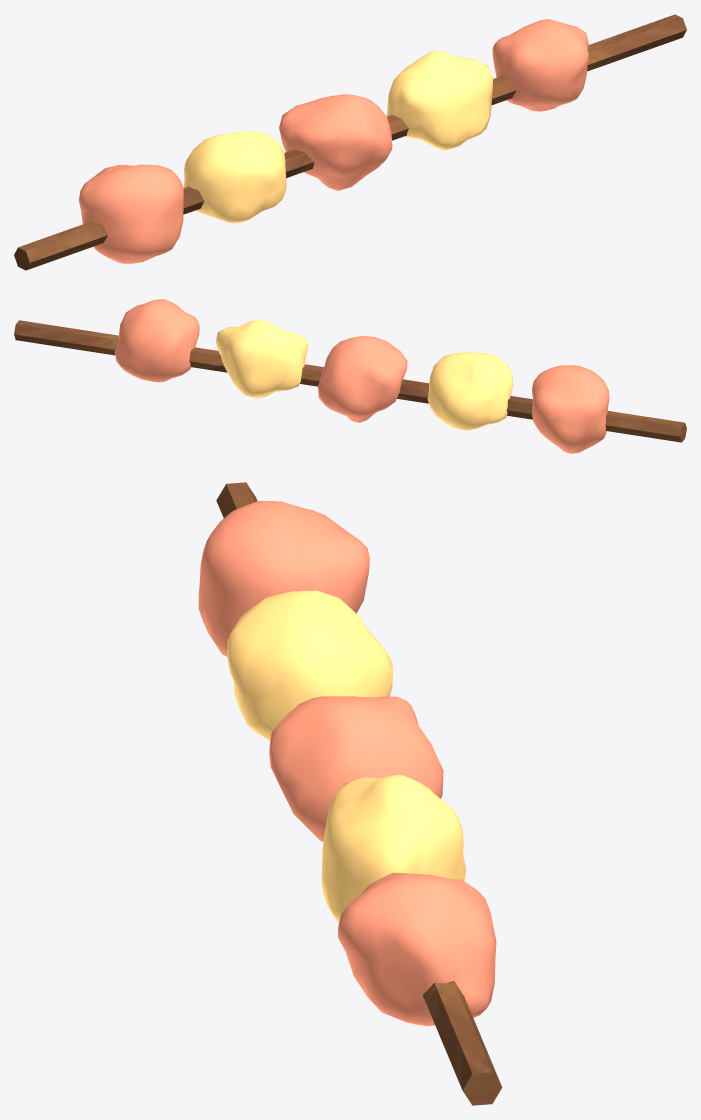
The model's file is dish_firecap_skewer.glb.
3 renders of one model, top to bottom at view 1: azimuth 30°, elevation 25°; view 2: azimuth 150°, elevation 25°; view 3: azimuth 270°, elevation 25°, orthographic. The views are drawn at different scales.
Visible parts, largest first — view 1: model; view 2: model; view 3: model.
Boxes of the visible parts, x1,y1,x2,y2 form: model: [14, 14, 686, 270]; model: [14, 299, 686, 453]; model: [198, 482, 502, 1105].
Bounding box in the file's own units: 0.4157 × 0.0565 × 0.09.
3 materials, 1 textured.
